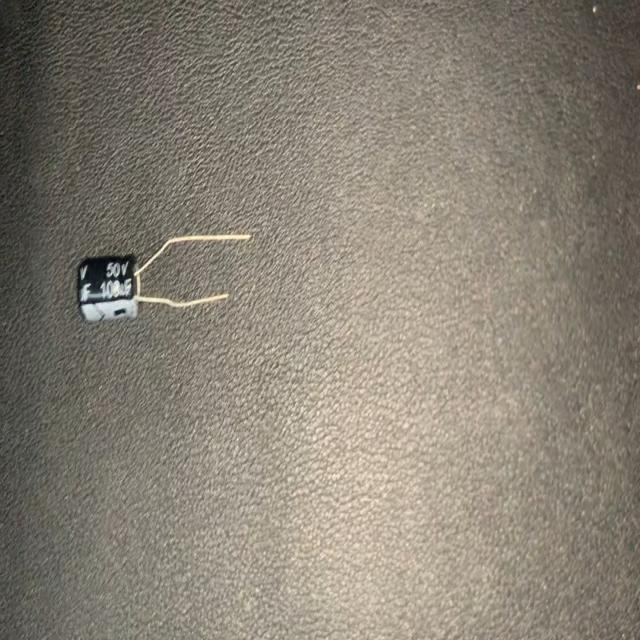capacitor: (72, 224, 256, 331)
